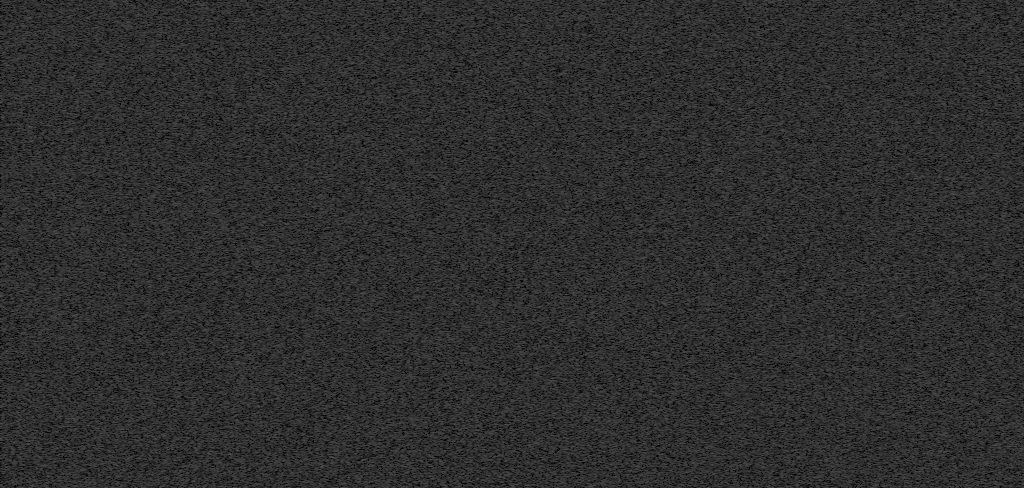wv_am: (739, 0, 745, 488), (540, 0, 546, 488), (225, 0, 230, 488)
wv_cw: (937, 0, 943, 488), (955, 0, 960, 488)
wv_lsb: (950, 65, 957, 261), (950, 378, 957, 478), (950, 274, 956, 366), (950, 2, 956, 55), (951, 367, 955, 377), (951, 483, 956, 488)
